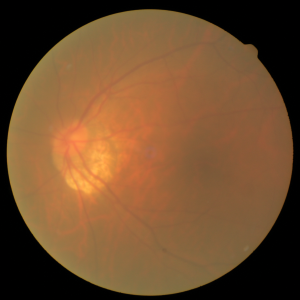cataract: (42, 102, 255, 215)
